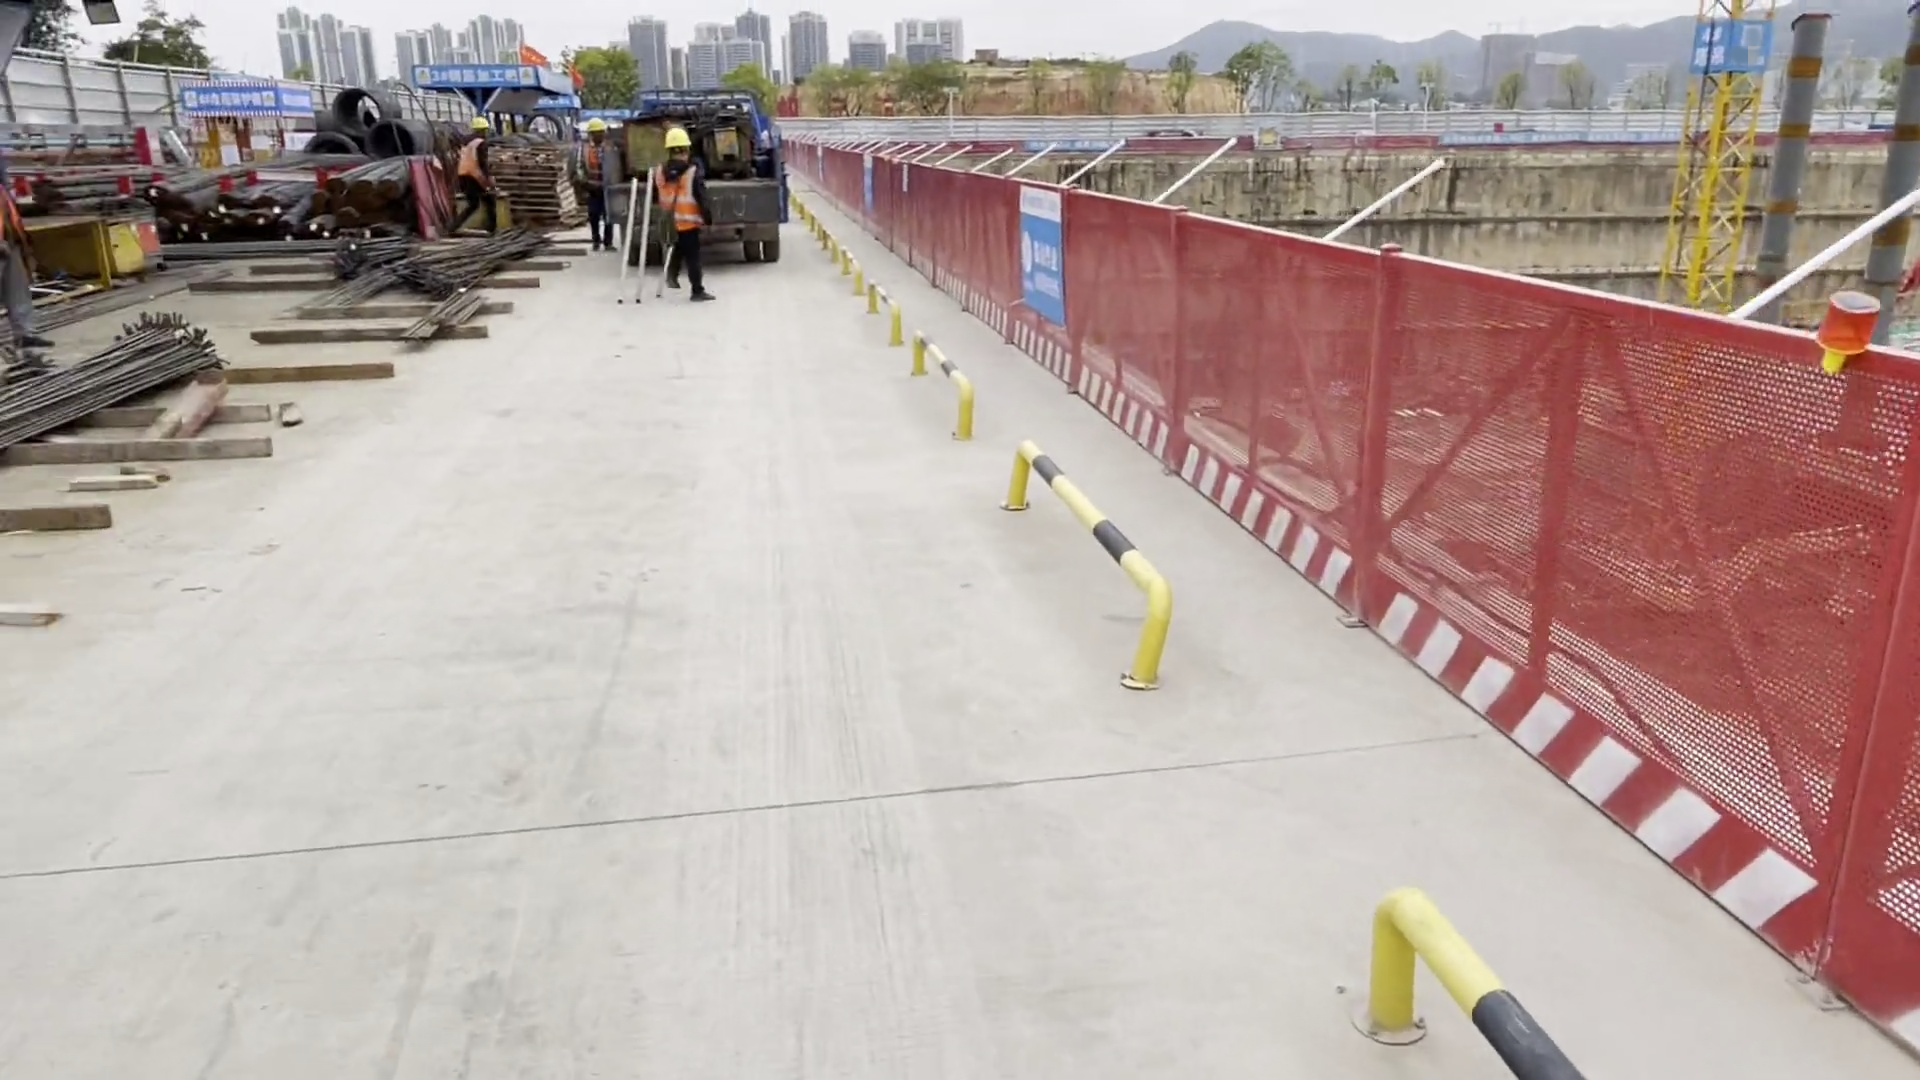ebox: (711, 125, 743, 164)
fence: (872, 175, 1920, 1043), (1134, 128, 1689, 157)
helmet: (663, 130, 691, 149), (469, 115, 492, 130), (587, 115, 606, 129)
person: (654, 128, 712, 300), (574, 111, 623, 245), (454, 113, 495, 233)
rebar: (1, 308, 229, 451), (334, 225, 559, 297)
slogan: (1011, 173, 1075, 335), (175, 80, 285, 121), (409, 60, 542, 89), (1693, 15, 1729, 75)
vest: (662, 168, 695, 232), (460, 141, 491, 188), (582, 143, 611, 187)
